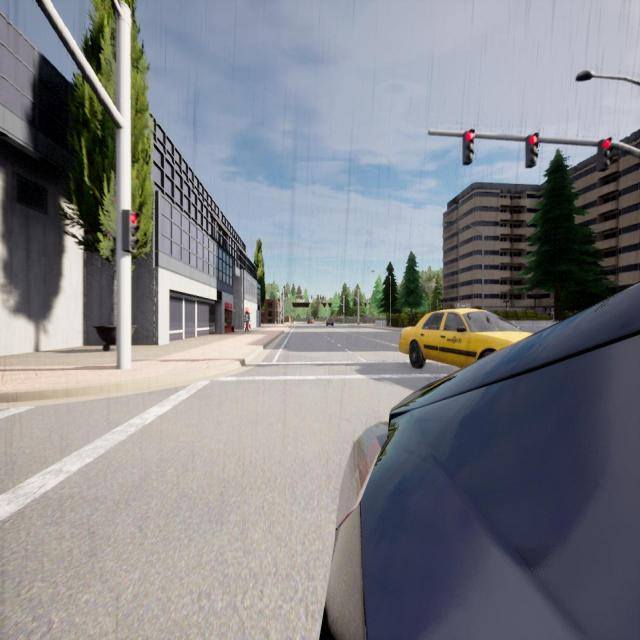Pedestrian: (244, 310, 250, 331)
Vehicle: (326, 284, 640, 638), (399, 310, 532, 367), (326, 316, 334, 326), (308, 317, 314, 324)
traffic_light: (124, 210, 138, 251), (526, 134, 538, 166), (598, 140, 609, 170), (463, 130, 473, 163), (300, 296, 302, 299), (311, 295, 312, 299), (320, 295, 321, 299)
